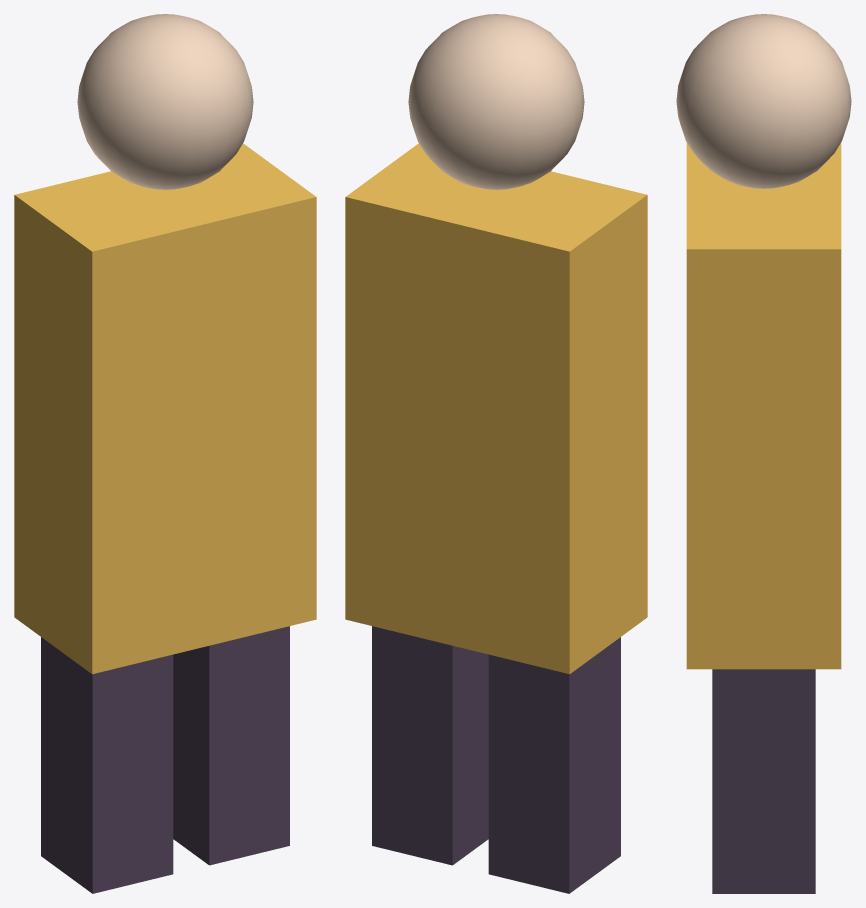
Rendered from gs_pawn.gltf.
The picture shows the model from 3 angles, left to right: view 1: azimuth 30°, elevation 25°; view 2: azimuth 150°, elevation 25°; view 3: azimuth 270°, elevation 25°; orthographic projection.
Visible parts, largest first — view 1: gs_pawn; view 2: gs_pawn; view 3: gs_pawn.
Part boxes in pixels (bbox=[...]): gs_pawn: bbox=[14, 14, 316, 893]; gs_pawn: bbox=[345, 14, 647, 893]; gs_pawn: bbox=[676, 14, 851, 893].
Size of the model in its own units: 0.5 by 1.76 by 0.34.
